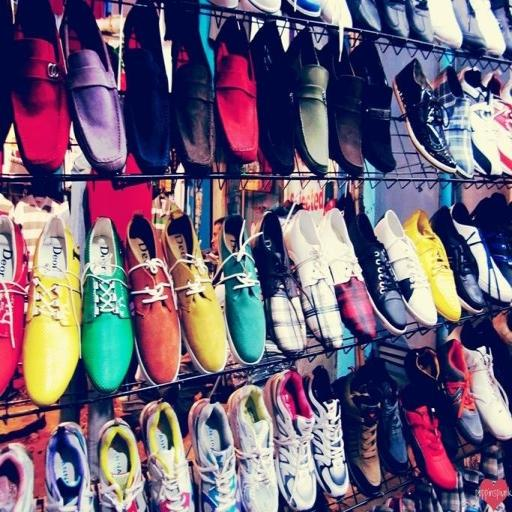shoe: (247, 0, 344, 175), (22, 216, 94, 406), (60, 0, 127, 174), (162, 206, 227, 373), (10, 0, 71, 175), (126, 213, 181, 384), (81, 217, 134, 393), (122, 4, 171, 174), (284, 210, 343, 349), (251, 211, 307, 353), (318, 208, 376, 343), (263, 369, 317, 511), (374, 210, 438, 327), (393, 58, 457, 174), (216, 214, 265, 365), (349, 213, 407, 335), (171, 23, 215, 175), (227, 385, 279, 512), (403, 209, 461, 322), (286, 26, 329, 177), (214, 17, 258, 163), (404, 346, 460, 460), (318, 38, 364, 176), (450, 202, 512, 303), (350, 40, 397, 173), (333, 371, 382, 497), (400, 384, 457, 490), (188, 398, 241, 512), (140, 401, 194, 512), (304, 366, 349, 498), (430, 206, 485, 314), (358, 357, 408, 474), (0, 214, 28, 395), (437, 339, 484, 445), (458, 67, 502, 177), (432, 66, 474, 178), (463, 346, 512, 441), (98, 419, 148, 512), (45, 422, 94, 512), (486, 15, 512, 176), (471, 194, 512, 285), (0, 443, 35, 512), (403, 346, 440, 403), (469, 0, 506, 57), (0, 0, 13, 147), (452, 0, 486, 55), (428, 0, 466, 49), (376, 0, 410, 38), (405, 0, 434, 43), (491, 3, 512, 59), (347, 0, 382, 32), (320, 0, 352, 30), (283, 0, 321, 18), (238, 0, 281, 15)
